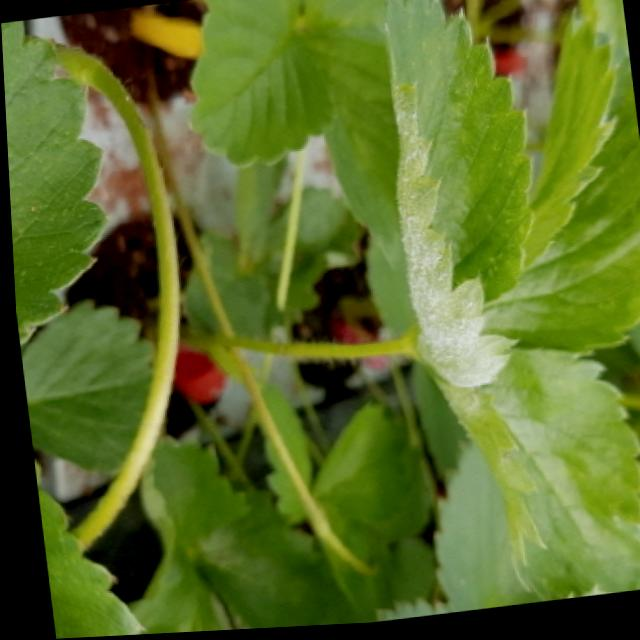Powdery Mildew Leaf: (378, 0, 531, 396)
